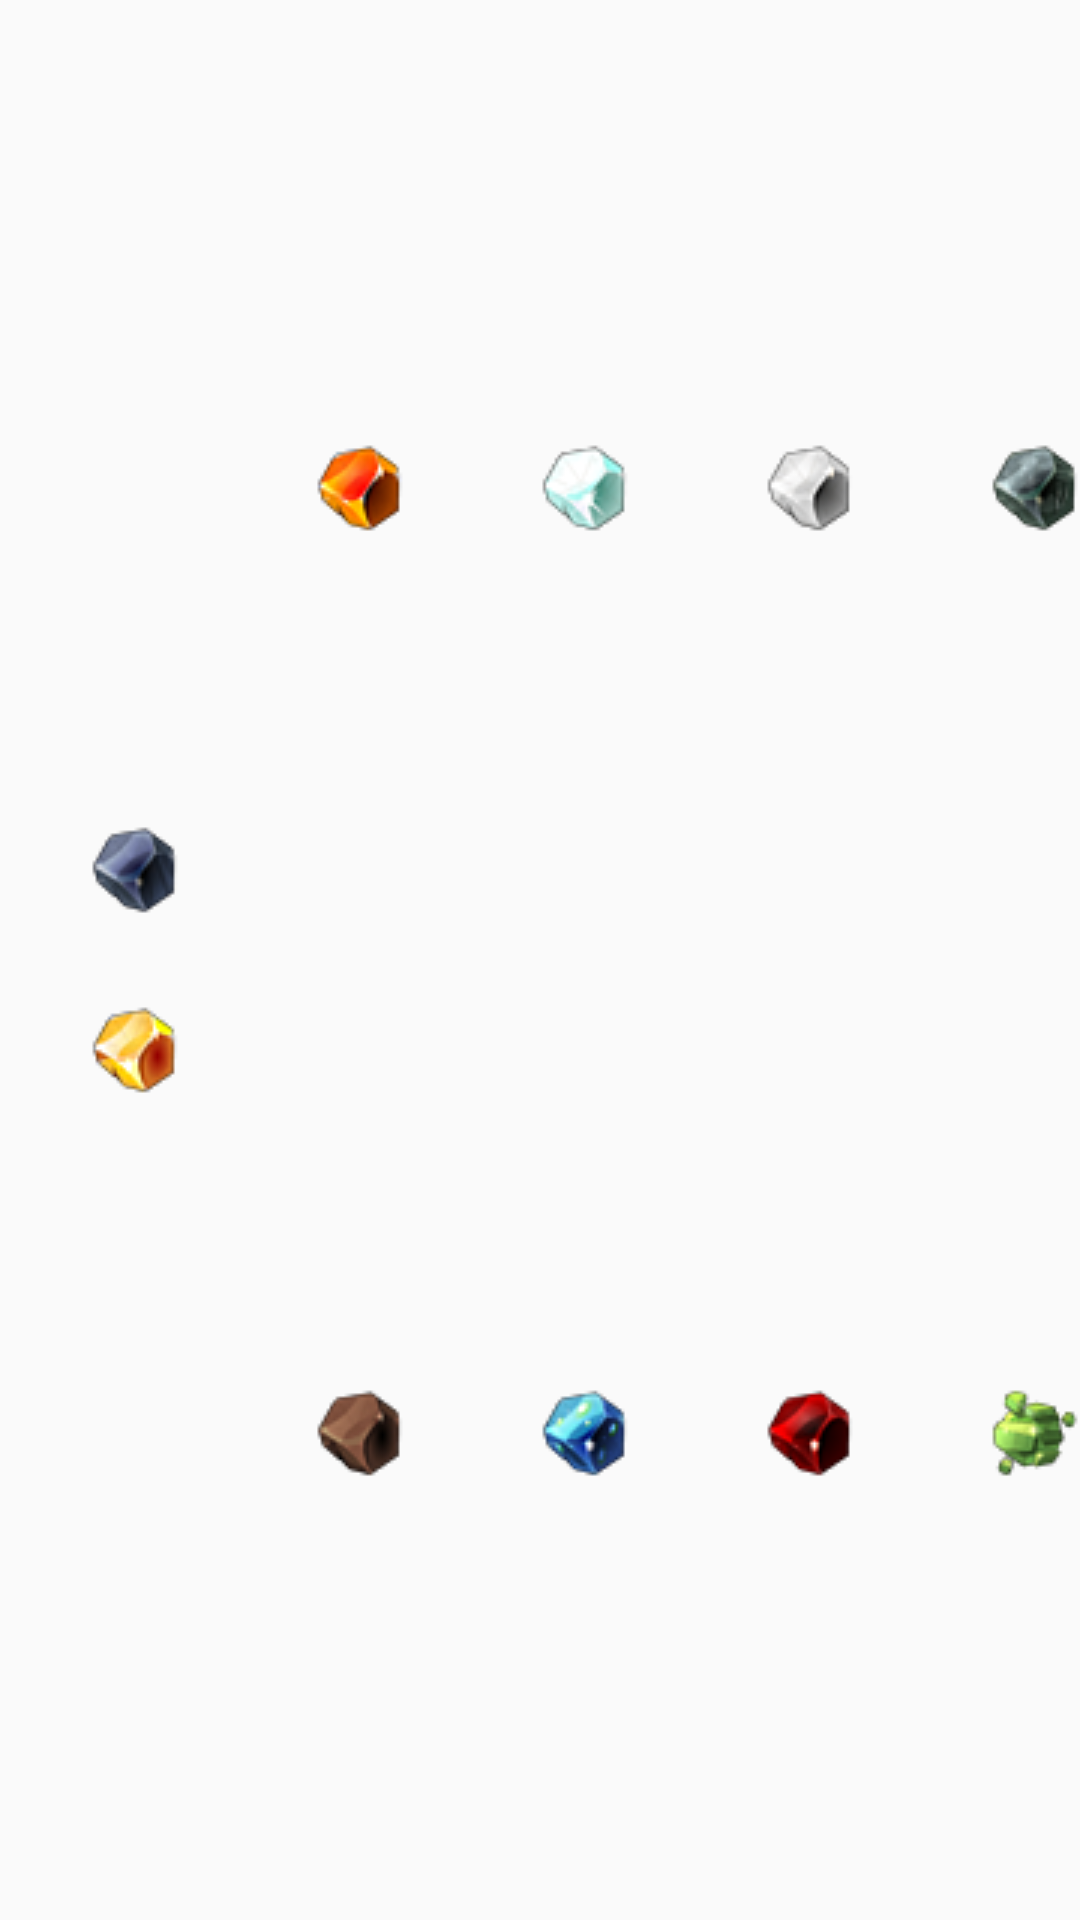

Point at icon controls on the screen. Image size 1080 x 1920, points as (x,y).
bauxite: (808,1433)
cuivre: (358,488)
